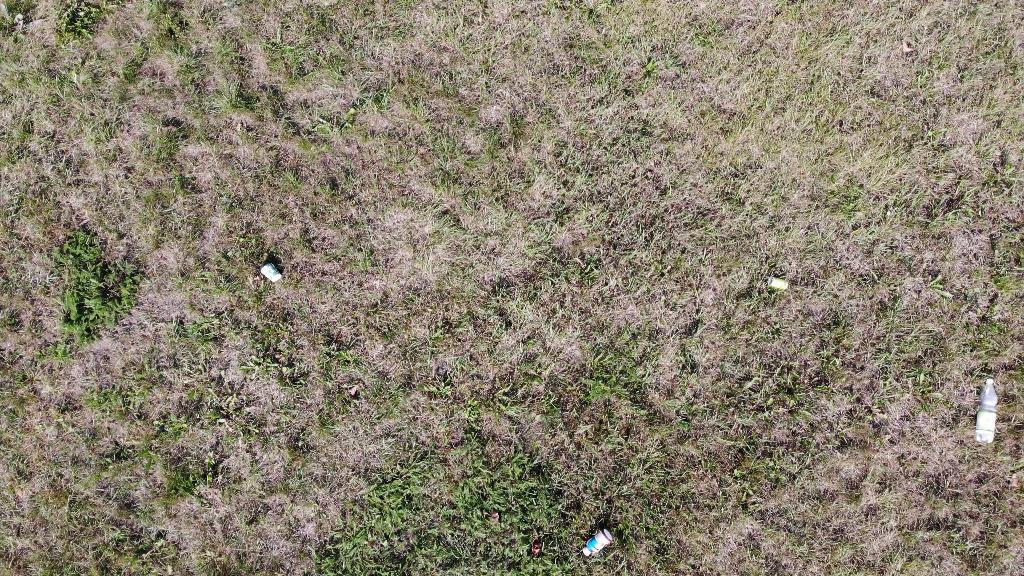garbage: (976, 375, 999, 446), (578, 522, 617, 563), (260, 261, 284, 286)
